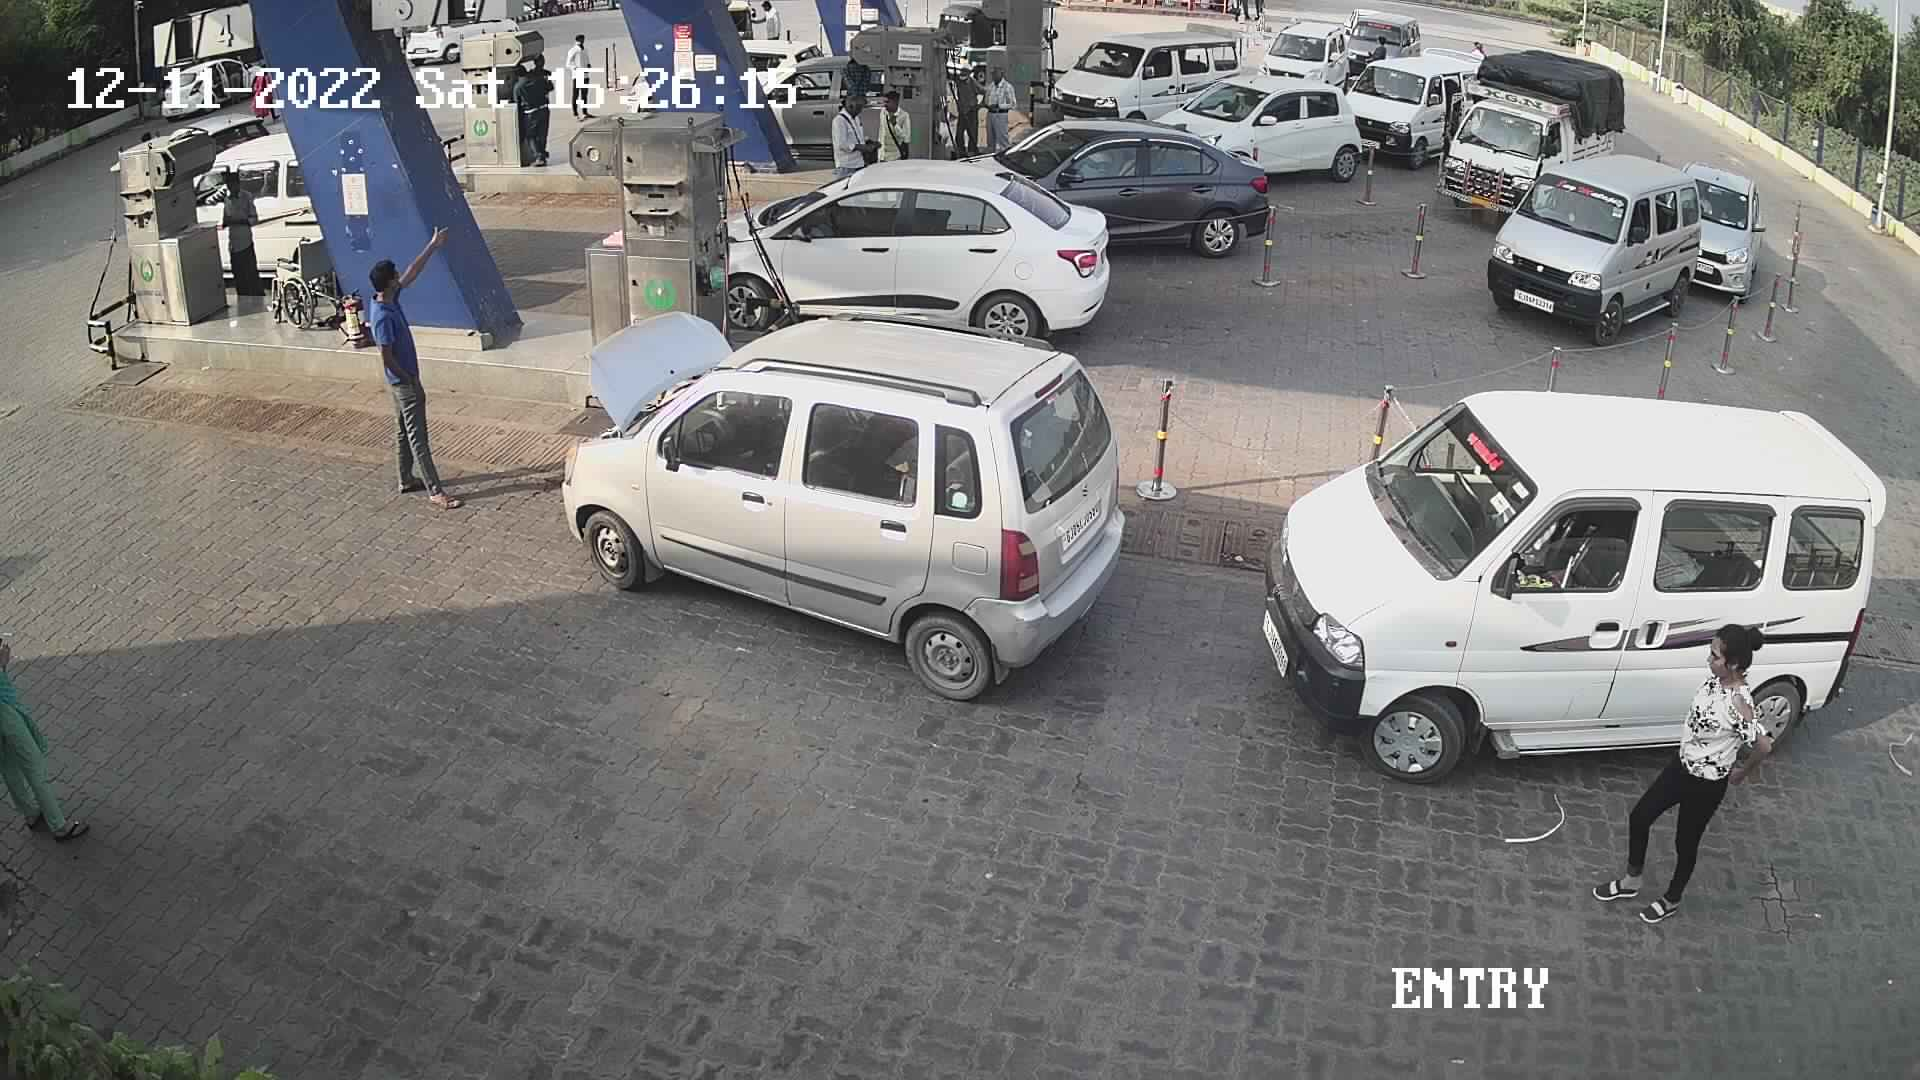Car: (1245, 375, 1913, 812), (562, 301, 1131, 708), (728, 154, 1113, 359), (1477, 145, 1724, 340), (986, 107, 1282, 266), (1431, 42, 1630, 231), (1131, 62, 1366, 193), (185, 121, 338, 299), (1328, 36, 1499, 177), (1044, 20, 1245, 128), (1647, 144, 1771, 311), (753, 46, 886, 167), (157, 105, 276, 200), (400, 1, 533, 76), (154, 45, 268, 123), (1257, 17, 1358, 98), (1338, 1, 1424, 92), (738, 26, 833, 98)
